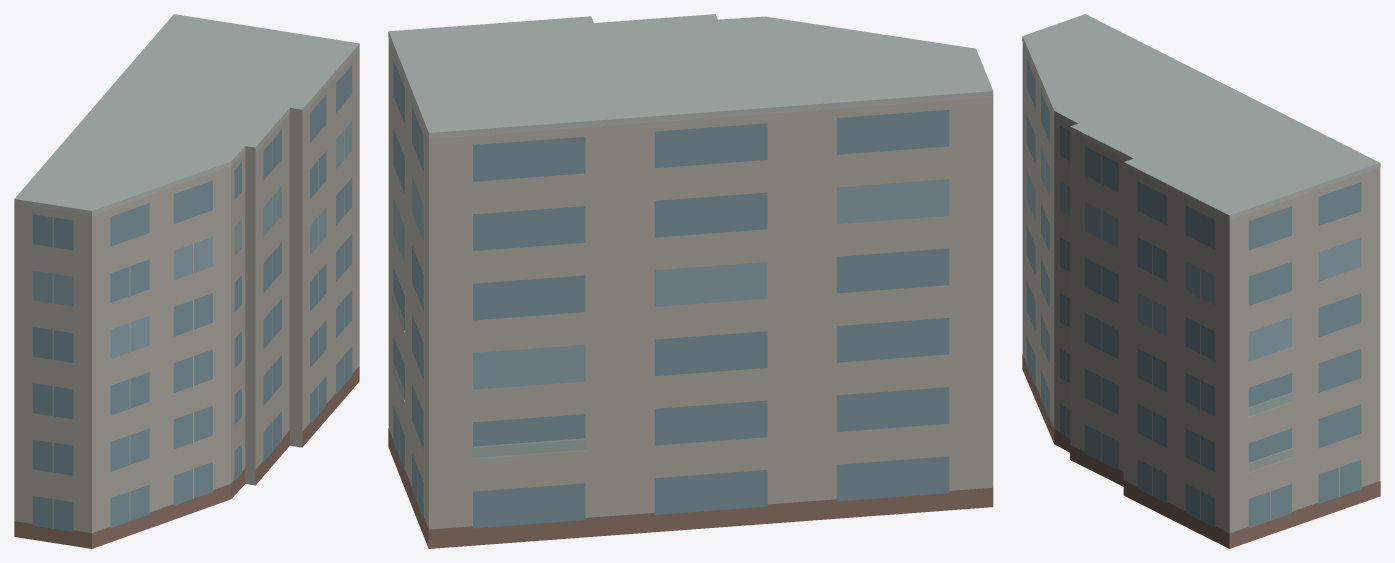
Rendered from survey-upis-32909563.glb.
3 renders of one model, left to right at view 1: azimuth 30°, elevation 25°; view 2: azimuth 150°, elevation 25°; view 3: azimuth 270°, elevation 25°, orthographic. The views are drawn at different scales.
Parts seen in each view (by area): view 1: survey-upis-32909563.tmp; view 2: survey-upis-32909563.tmp; view 3: survey-upis-32909563.tmp.
Part boxes in pixels (<box>): survey-upis-32909563.tmp: <box>14,14,359,548</box>; survey-upis-32909563.tmp: <box>388,14,993,548</box>; survey-upis-32909563.tmp: <box>1022,14,1380,548</box>.
Size of the model in its own units: 21.65 by 16.7 by 16.26.
